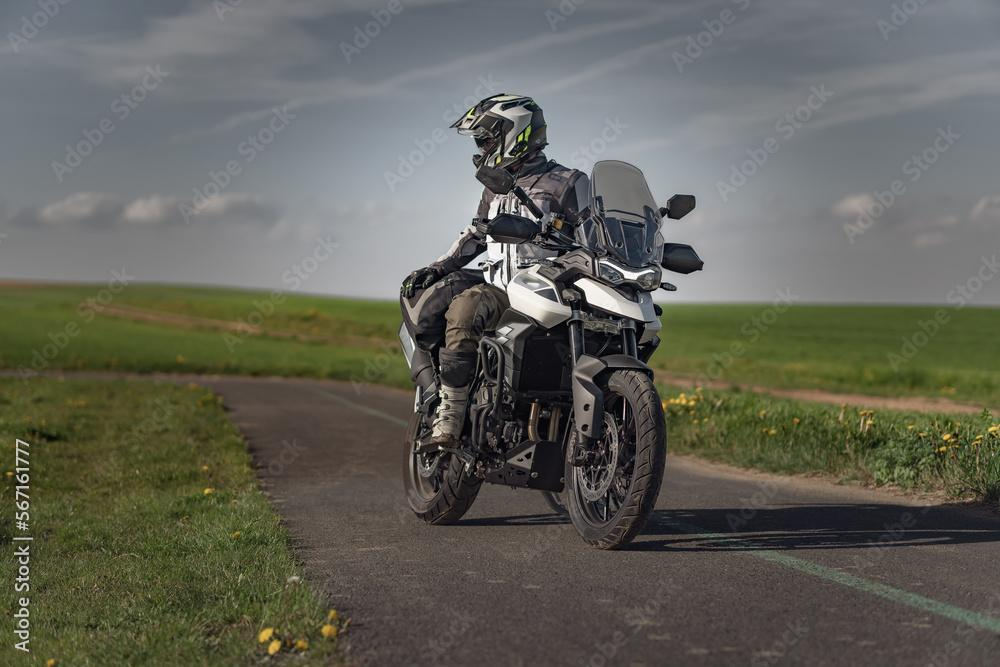helmet: (448, 92, 549, 180)
